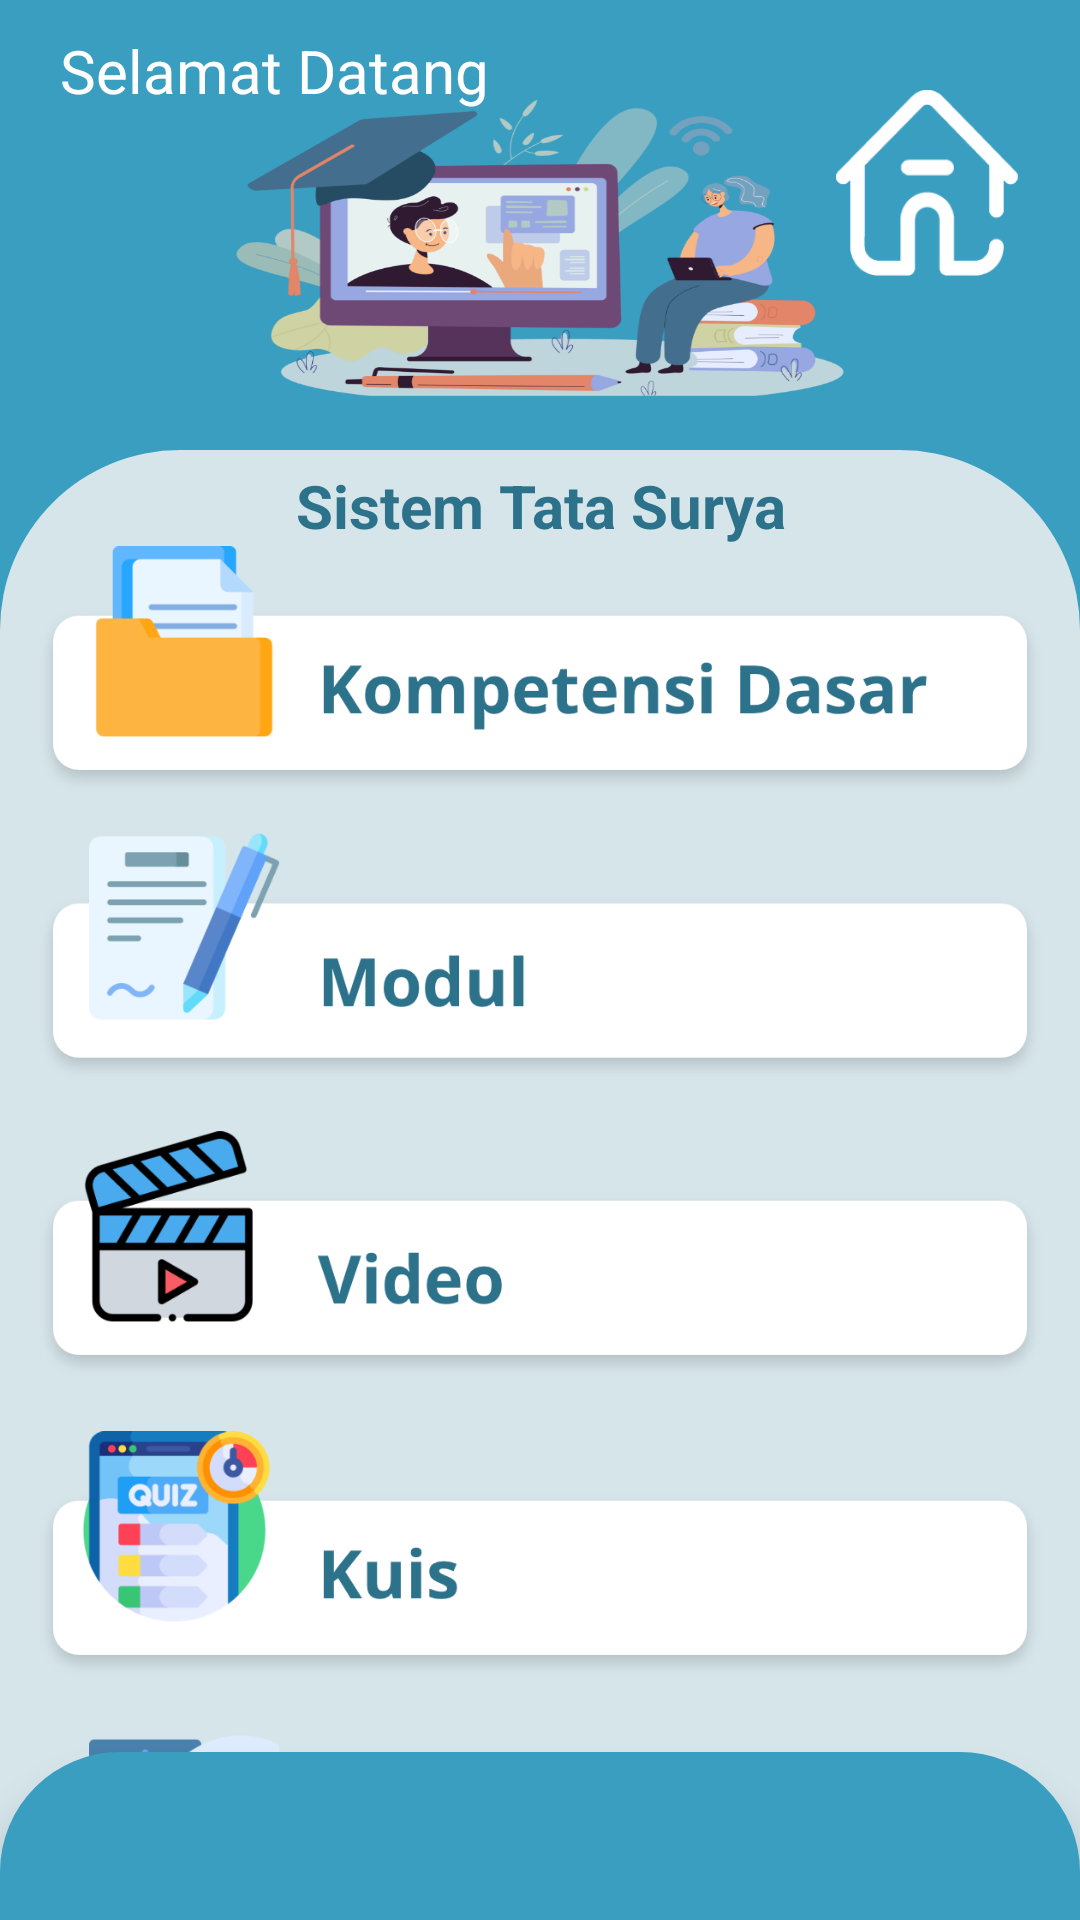

Where icons sit on this 1080 x 1920 app screen, as {"x1": x1, "y1": y1, "x2": x2, "y2": y2}:
home: {"x1": 836, "y1": 90, "x2": 1018, "y2": 276}
